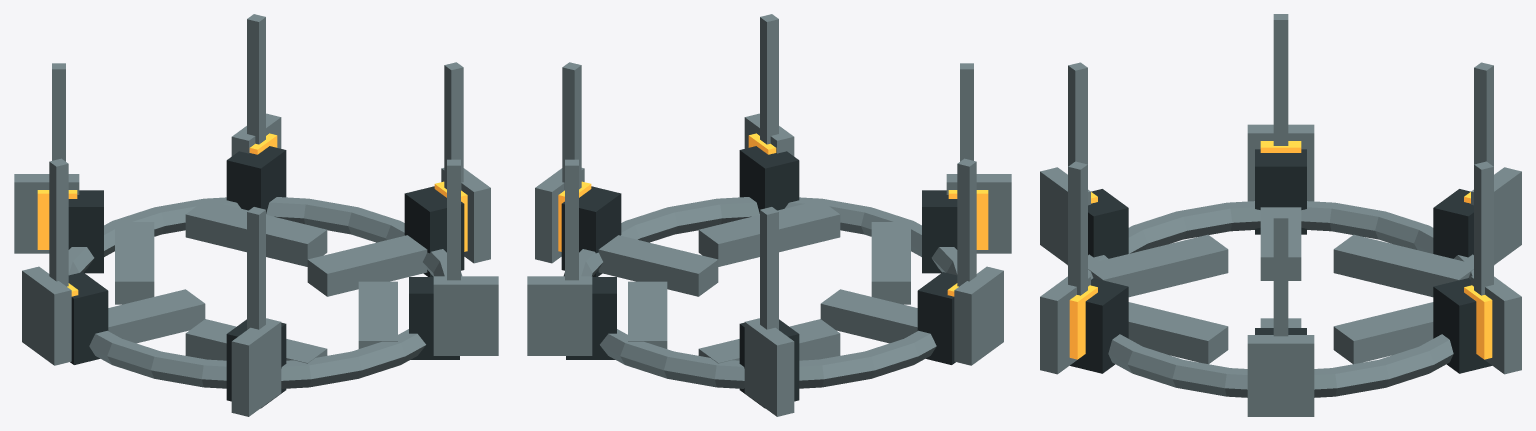
The model's file is contact-discharge.glb.
3 views of the same model, side by side, from view 1: azimuth 30°, elevation 25°; view 2: azimuth 150°, elevation 25°; view 3: azimuth 270°, elevation 25° (orthographic). The views are drawn at different scales.
Visible parts, largest first — view 1: DischargeSteel, DischargeInsulator, Shutter0, Shutter5, Shutter4, Shutter3, Shutter1, DischargeAmber, Shutter2; view 2: DischargeSteel, DischargeInsulator, Shutter2, Shutter3, Shutter4, Shutter5, Shutter1, DischargeAmber, Shutter0; view 3: DischargeSteel, DischargeInsulator, Shutter1, DischargeAmber, Shutter0, Shutter2, Shutter3, Shutter5, Shutter4.
Boxes of the visible parts, x1,y1,x2,y2 form: DischargeSteel: [49, 14, 463, 388]; DischargeInsulator: [68, 146, 464, 408]; Shutter0: [433, 276, 498, 355]; Shutter5: [231, 318, 281, 416]; Shutter4: [22, 266, 71, 365]; Shutter3: [14, 174, 79, 253]; Shutter1: [441, 168, 490, 263]; DischargeAmber: [37, 133, 467, 296]; Shutter2: [231, 113, 281, 156]; DischargeSteel: [562, 14, 976, 388]; DischargeInsulator: [561, 146, 957, 408]; Shutter2: [527, 276, 592, 355]; Shutter3: [744, 318, 794, 416]; Shutter4: [954, 266, 1003, 365]; Shutter5: [946, 174, 1011, 253]; Shutter1: [535, 168, 584, 263]; DischargeAmber: [558, 133, 988, 296]; Shutter0: [744, 113, 794, 156]; DischargeSteel: [1068, 14, 1493, 397]; DischargeInsulator: [1070, 149, 1491, 373]; Shutter1: [1247, 335, 1314, 416]; DischargeAmber: [1069, 141, 1492, 359]; Shutter0: [1040, 276, 1090, 374]; Shutter2: [1471, 276, 1521, 374]; Shutter3: [1471, 167, 1521, 264]; Shutter5: [1040, 167, 1090, 264]; Shutter4: [1247, 124, 1314, 201].
Size of the model in its own units: 0.895 by 0.38 by 0.8326.
